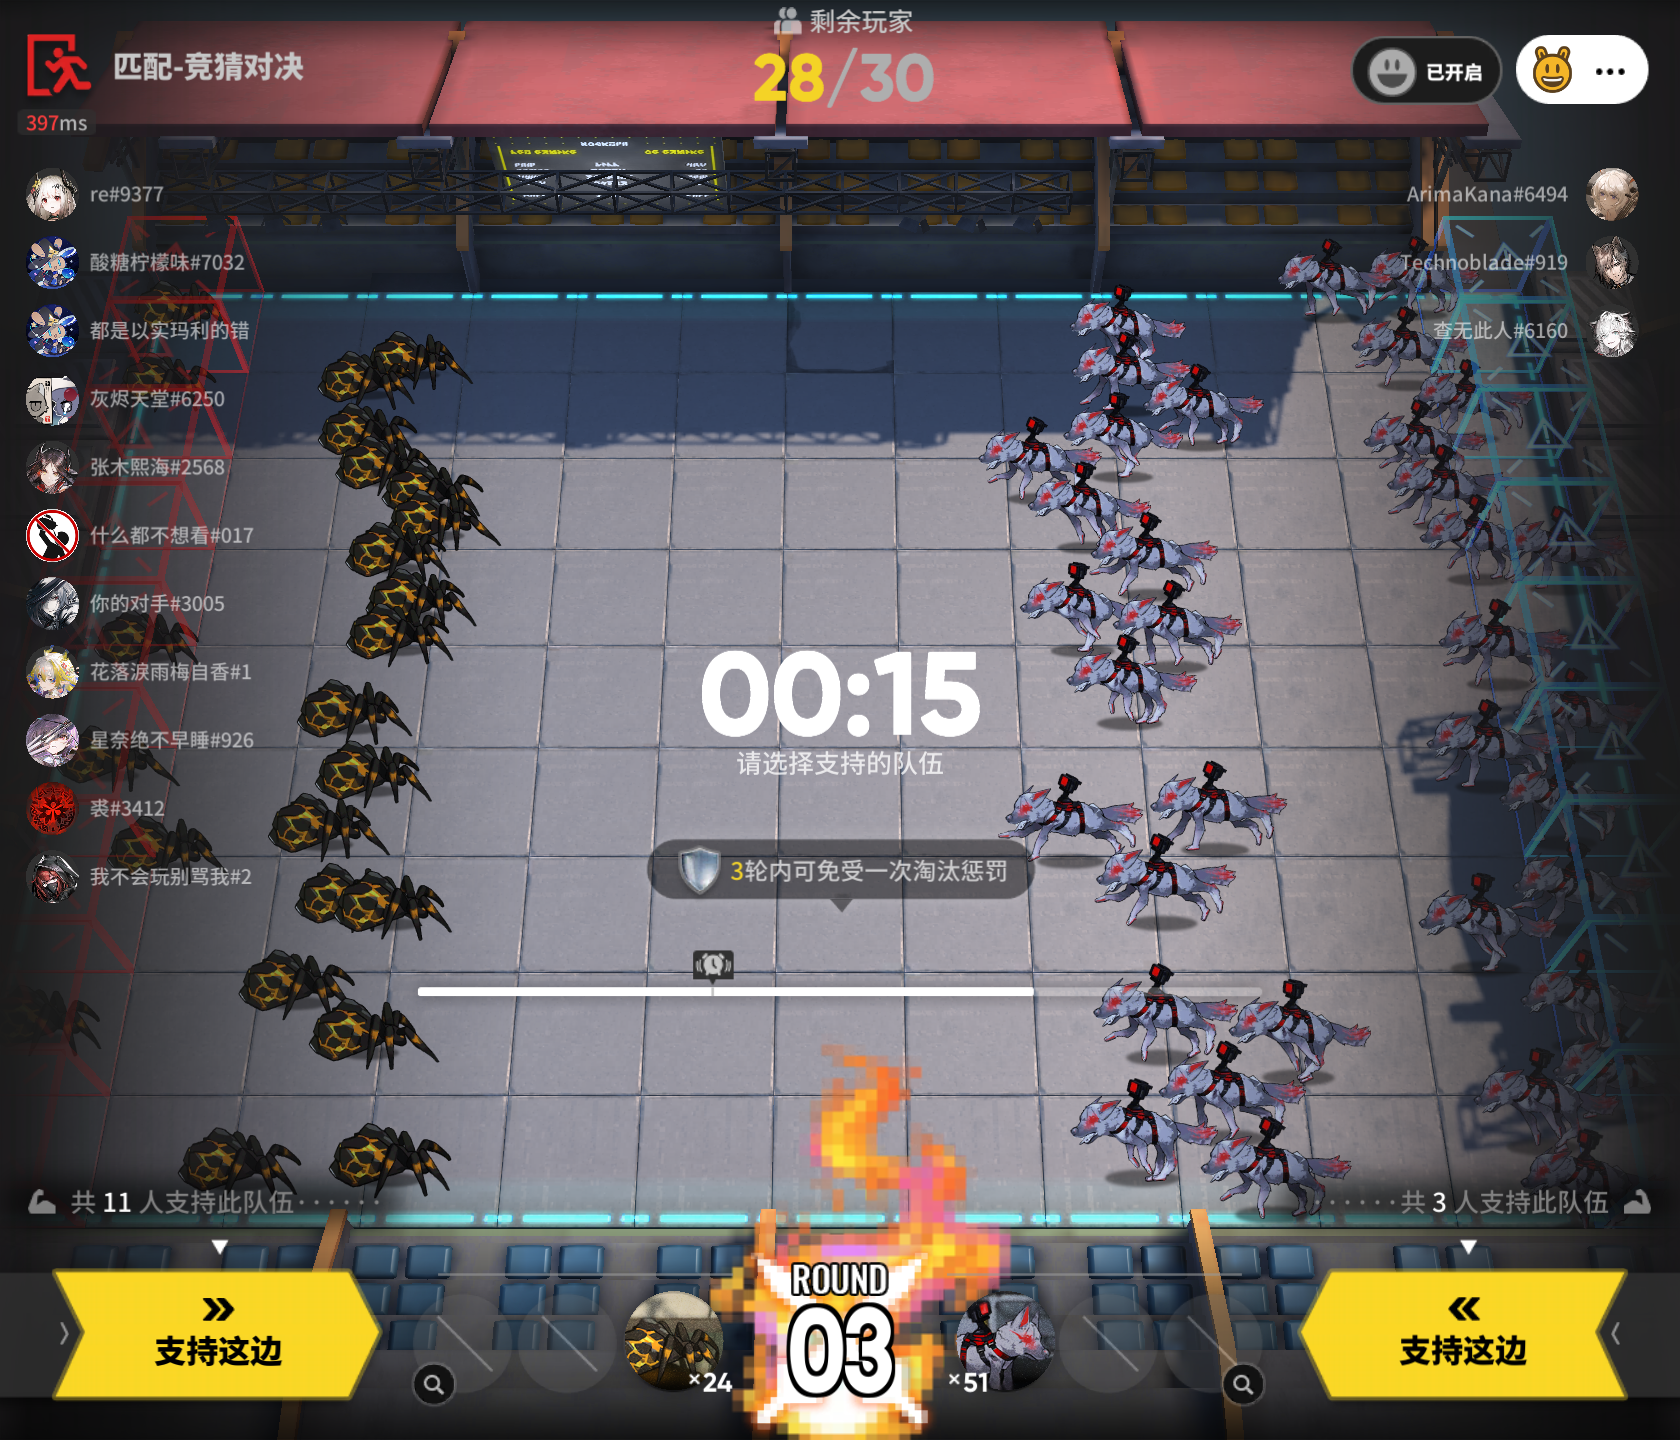易爆源石虫: (623, 1279, 734, 1391), (177, 1126, 301, 1211), (89, 594, 220, 671), (309, 996, 439, 1071), (329, 1121, 451, 1201), (57, 719, 179, 797), (389, 490, 509, 566), (339, 861, 451, 941), (100, 814, 224, 886), (269, 791, 391, 861), (239, 949, 354, 1021), (314, 740, 431, 809), (296, 677, 413, 746), (343, 513, 454, 581), (131, 274, 237, 346), (366, 557, 476, 621), (364, 319, 473, 383), (337, 431, 443, 494), (350, 604, 453, 669), (316, 350, 426, 409), (319, 397, 430, 453), (120, 349, 230, 404), (380, 459, 487, 514), (299, 864, 394, 921)
狗Pro: (1409, 864, 1569, 989), (1526, 1121, 1664, 1234), (1226, 979, 1370, 1084), (1069, 1079, 1216, 1181), (1200, 1119, 1350, 1219), (949, 1283, 1073, 1401), (1159, 1040, 1303, 1140), (1091, 963, 1230, 1061), (1093, 831, 1234, 926), (1421, 696, 1559, 791), (997, 771, 1143, 861), (1553, 1014, 1676, 1119), (1149, 760, 1287, 851), (976, 413, 1109, 506), (1437, 599, 1569, 689), (1066, 634, 1197, 724), (1103, 581, 1241, 666), (1350, 299, 1474, 391), (1089, 510, 1217, 599), (1509, 664, 1626, 759), (1509, 851, 1640, 934), (1027, 459, 1150, 544), (1146, 361, 1261, 446), (1521, 949, 1620, 1047), (1411, 359, 1531, 439), (1500, 760, 1617, 841), (1474, 1047, 1570, 1146), (1361, 236, 1481, 313), (1019, 561, 1119, 651), (1384, 443, 1493, 526), (1359, 407, 1494, 473), (1061, 399, 1171, 479), (1511, 506, 1630, 579), (1070, 284, 1186, 356), (1071, 334, 1179, 410), (1419, 494, 1511, 581), (1277, 239, 1371, 316)
